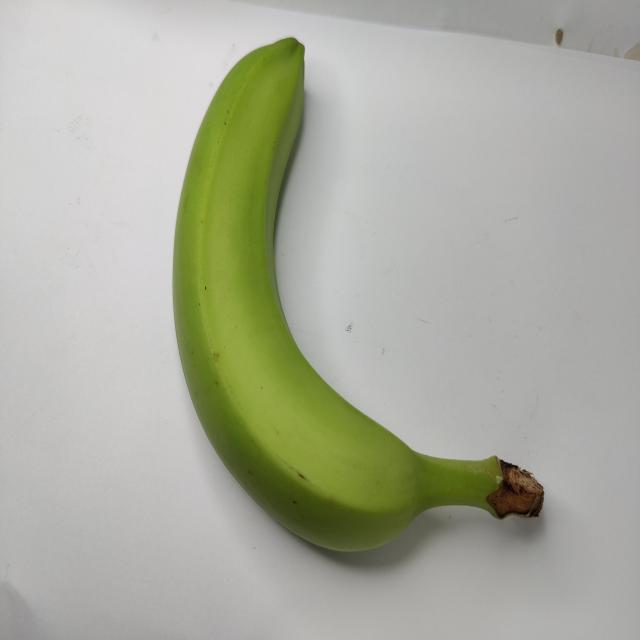raw: (146, 21, 560, 590)
